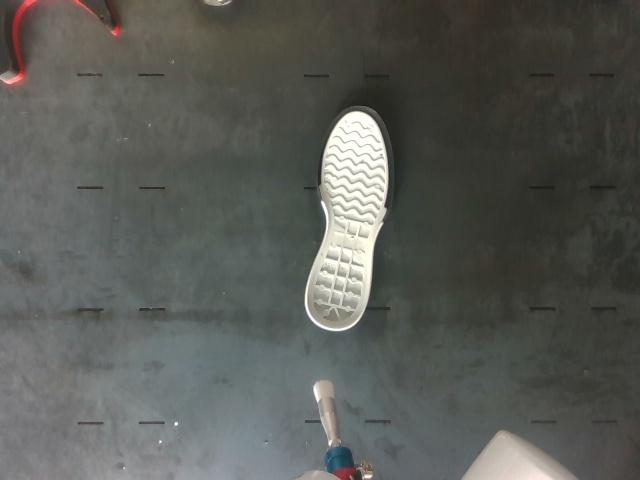shoes: (306, 105, 394, 330)
